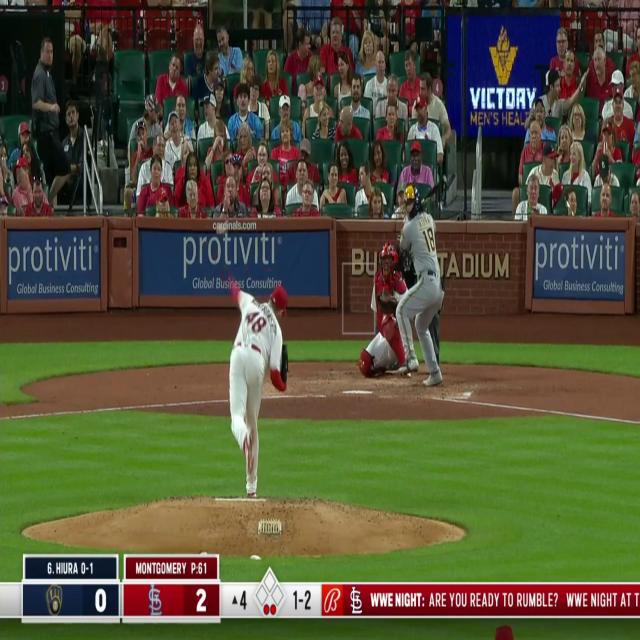baseball: (215, 218, 229, 238)
